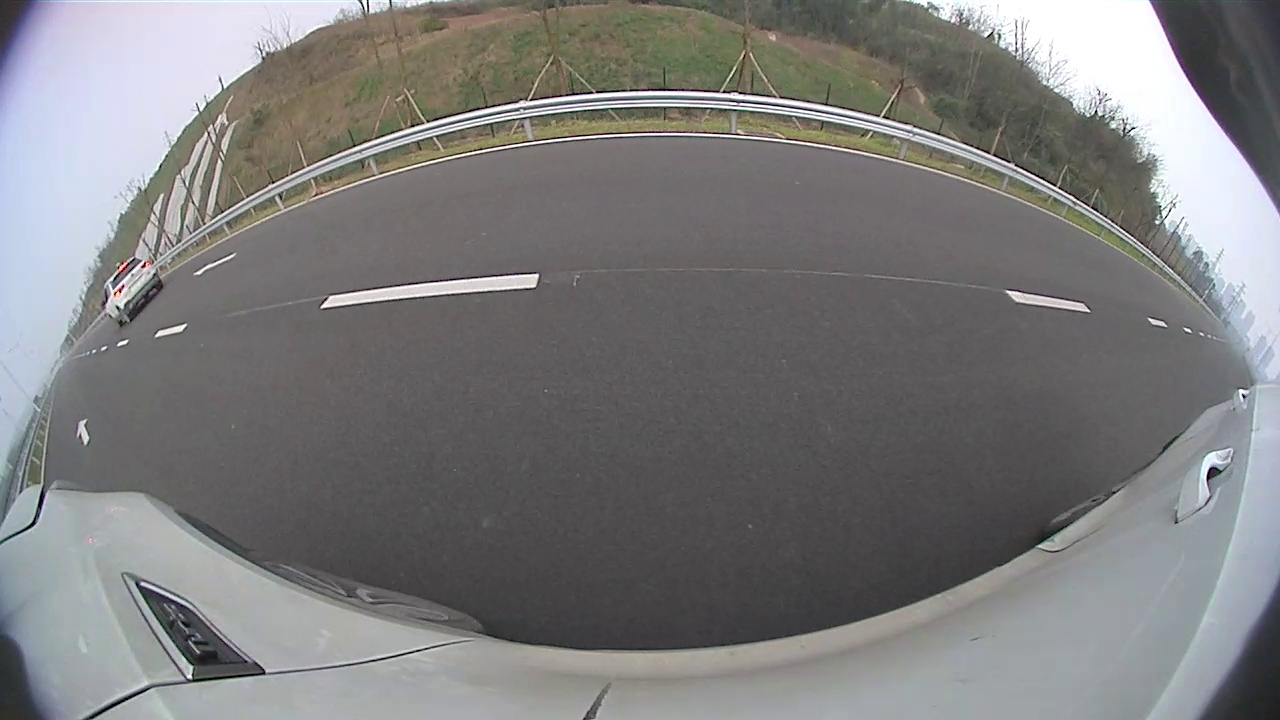car: (101, 257, 163, 323)
rear: (116, 309, 132, 323)
